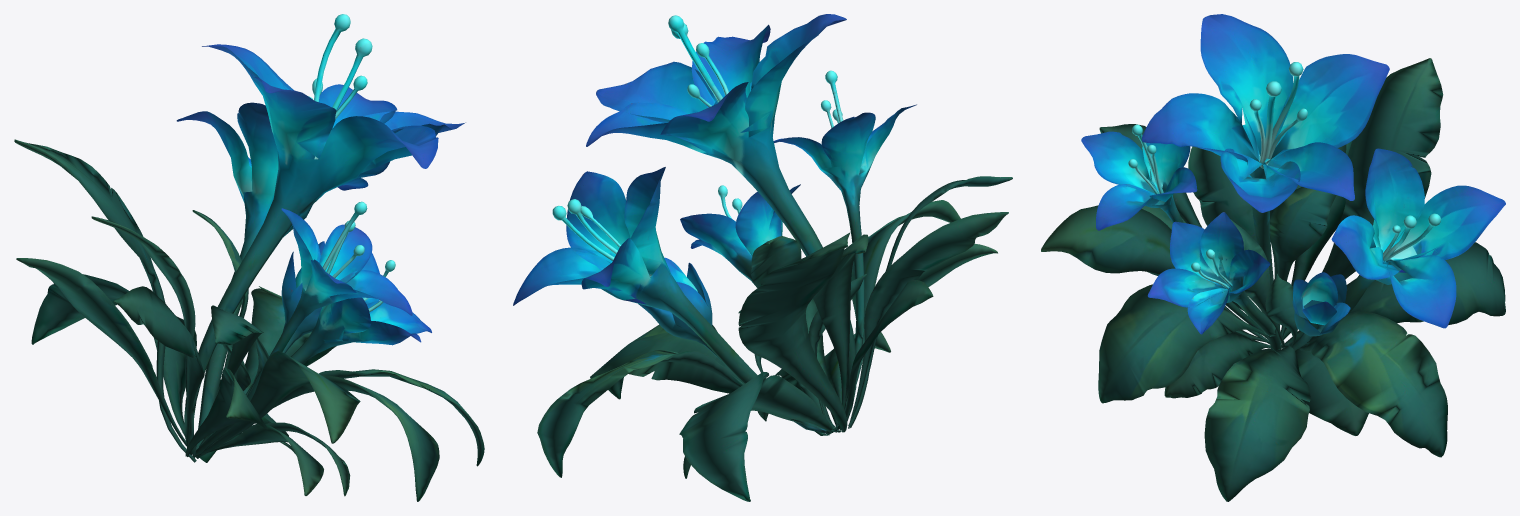
File: GlowFlowers.fbx
3 views of the same model, side by side, from view 1: azimuth 30°, elevation 25°; view 2: azimuth 150°, elevation 25°; view 3: azimuth 270°, elevation 25° (orthographic). The views are drawn at different scales.
Parts seen in each view (by area): view 1: GlowFlowers; view 2: GlowFlowers; view 3: GlowFlowers.
Boxes of the visible parts, x1,y1,x2,y2 form: GlowFlowers: (14, 14, 484, 501); GlowFlowers: (513, 14, 1012, 501); GlowFlowers: (1041, 14, 1505, 501).
Size of the model in its own units: 1.42 by 1.51 by 1.6.
